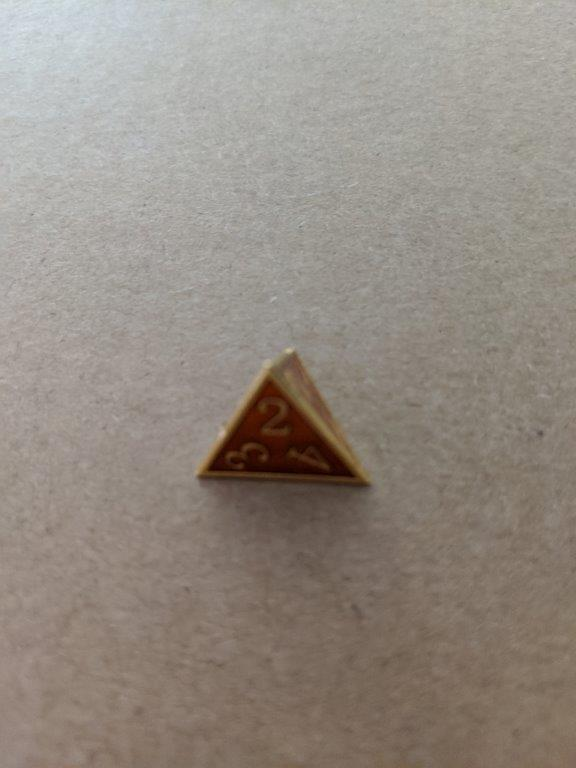d4-2: (188, 341, 376, 500)
